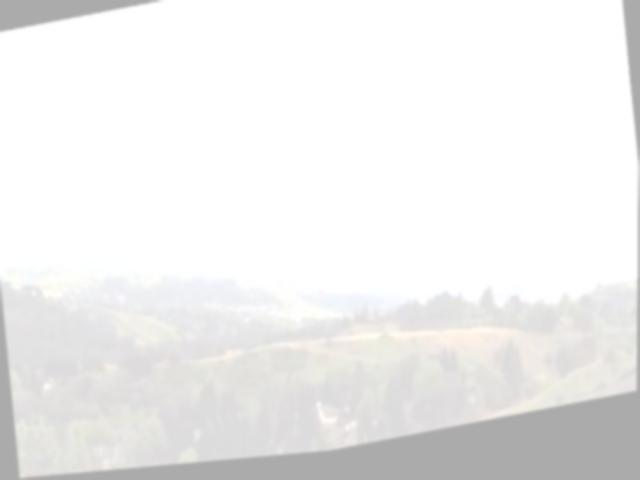iha: (469, 179, 492, 204)
